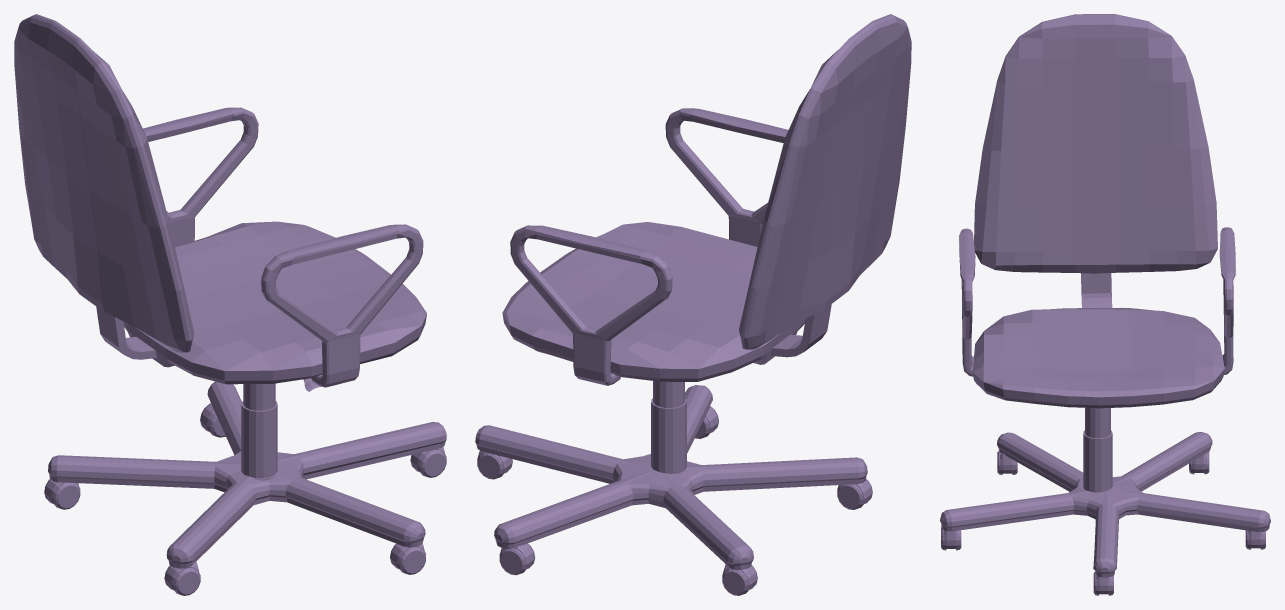
The model's file is officechair.fbx.
The picture shows the model from 3 angles, left to right: view 1: azimuth 30°, elevation 25°; view 2: azimuth 150°, elevation 25°; view 3: azimuth 270°, elevation 25°; orthographic projection. The views are drawn at different scales.
Parts seen in each view (by area): view 1: pasted__polySurface46; view 2: pasted__polySurface46; view 3: pasted__polySurface46.
Part boxes in pixels (x1,y1,x2,y2): pasted__polySurface46: (14, 14, 446, 595); pasted__polySurface46: (475, 14, 911, 595); pasted__polySurface46: (940, 14, 1270, 595).
Bounding box in the file's own units: 82.04 × 108 × 74.31.
